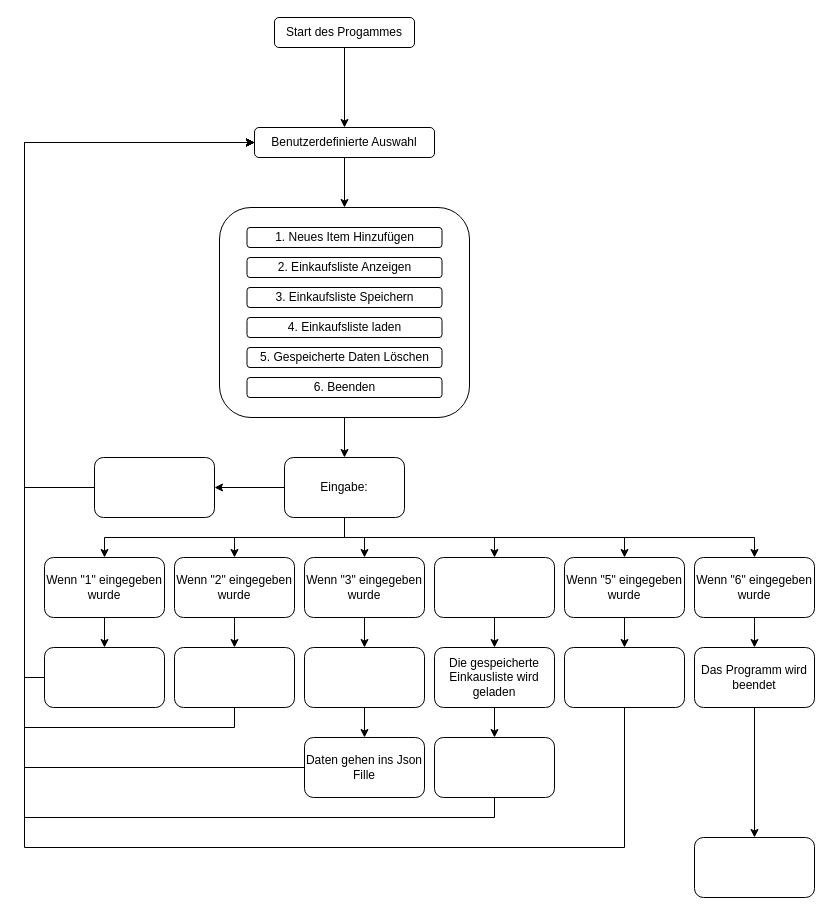
Some shapes in this 832 by 915 pixel diagram are drawn without their labels. The shapes that lost their labels are listed below. From the top down, each one's box as (x1, y1, x2, y2) in pixels, then its label:
(94, 456, 214, 518): Keine Gültige Zahl
(434, 556, 554, 618): Wenn "4" eingegeben wurde
(44, 646, 164, 708): Ein neues Produkt wird hinzugefügt
(174, 646, 294, 708): Einkaufsliste wird angezeigt
(304, 646, 424, 708): Einkaufsliste wird gespeichert
(564, 646, 684, 708): Alle daten von dem Json fille werden gelöscht.
(434, 736, 554, 798): Daten werden von dem Json fille abgelesen
(694, 836, 814, 898): Exit Whil loop
